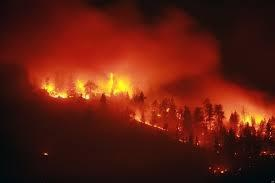fire: (38, 69, 137, 100), (132, 109, 165, 132), (238, 109, 266, 127)
